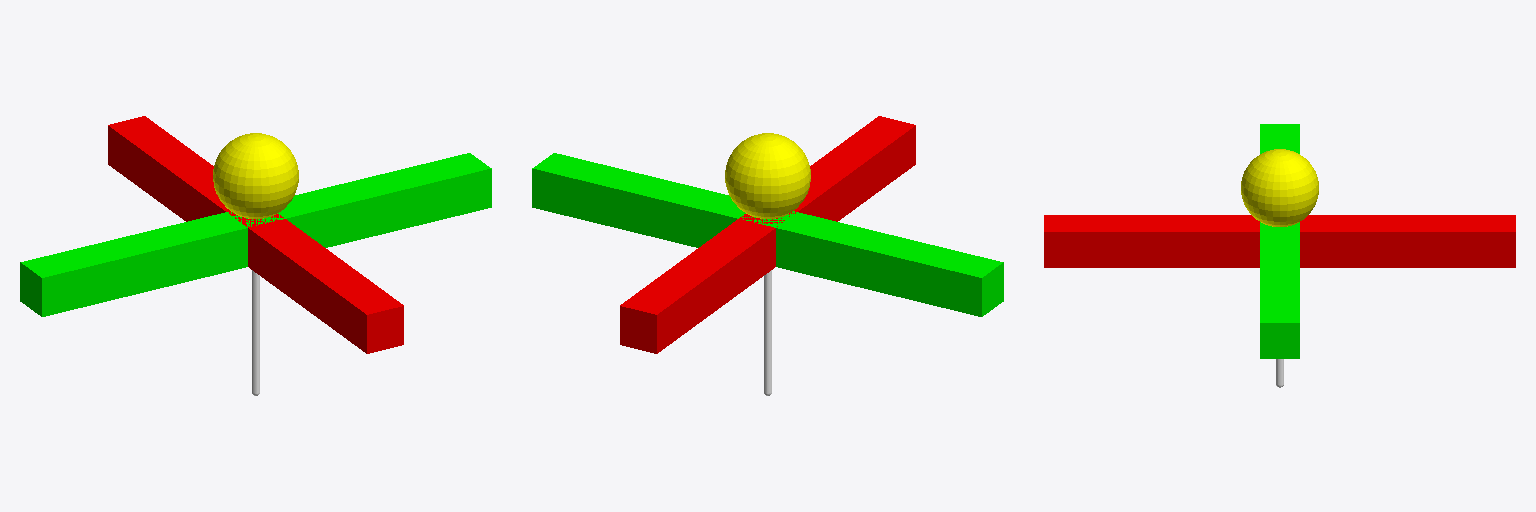
robot.urdf — task6_0:
<?xml version="1.0"?>
<robot name="task6_0">
    <link name="world"/>

    <link name="base_link">
        <origin xyz="0.0 0.0 0.0" rpy="0.0 0.0 0.0"/>
    </link>

    <link name="y_axis_link">
        <inertial>
            <origin xyz="0.0 0.0 0.0" rpy="0.0 0.0 0.0"/>
            <mass value="0.0"/>
            <inertia ixx="0.0" ixy="0.0" ixz="0.0" iyy="0.0" iyz="0.0" izz="0.0"/>
        </inertial>
        <visual name="">
            <origin xyz="0.0 0.0 0.0" rpy="0.0 0.0 0.0"/>
            <geometry>
                <box size="0.600 0.05 0.05"/>
            </geometry>
            <material name="">
                <color rgba="0.0 1.0 0.0 1.0"/>
                <texture filename=""/>
            </material>
        </visual>
        <collision>
            <origin xyz="0.0 0.0 0.0" rpy="0.0 0.0 0.0"/>
            <geometry>
                <box size="0.0 0.0 0.0"/>
            </geometry>
        </collision>
    </link>

    <link name="x_axis_link">
        <inertial>
            <origin xyz="0.0 0.0 0.0" rpy="0.0 0.0 0.0"/>
            <mass value="0.0"/>
            <inertia ixx="0.0" ixy="0.0" ixz="0.0" iyy="0.0" iyz="0.0" izz="0.0"/>
        </inertial>
        <visual name="">
            <origin xyz="0.0 0.0 0.0" rpy="0.0 0.0 0.0"/>
            <geometry>
                <box size="0.05 0.600 0.05"/>
            </geometry>
            <material name="red">
                <color rgba="1.0 0.0 0.0 1.0"/>
                <texture filename=""/>
            </material>
        </visual>
        <collision>
            <origin xyz="0.0 0.0 0.0" rpy="0.0 0.0 0.0"/>
            <geometry>
                <box size="0.05 0.05 0.300"/>
            </geometry>
        </collision>
    </link>

    <link name="spindle_base_link">
        <inertial>
            <origin xyz="0.0 0.0 0.0" rpy="0.0 0.0 0.0"/>
            <mass value="0.0"/>
            <inertia ixx="0.0" ixy="0.0" ixz="0.0" iyy="0.0" iyz="0.0" izz="0.0"/>
        </inertial>
        <visual name="">
            <origin xyz="0.0 0.0 0.0" rpy="0.0 0.0 0.0"/>
            <geometry>
                <sphere radius="0.025"/>
            </geometry>
            <material name="">
                <color rgba="1.0 1.0 1.0 1.0"/>
                <texture filename=""/>
            </material>
        </visual>
        <collision>
            <origin xyz="0.0 0.0 0.0" rpy="0.0 0.0 0.0"/>
            <geometry>
                <sphere radius="0.025"/>
            </geometry>
        </collision>
    </link>

    <link name="spindle_nozzle_link">
        <inertial>
            <origin xyz="0.0 0.0 0.0" rpy="0.0 0.0 0.0"/>
            <mass value="0.0"/>
            <inertia ixx="0.0" ixy="0.0" ixz="0.0" iyy="0.0" iyz="0.0" izz="0.0"/>
        </inertial>
        <visual name="">
            <origin xyz="0.0 0.0 0.100" rpy="0.0 0.0 0.0"/>
            <geometry>
                <cylinder radius="0.005" length="0.200"/>
            </geometry>
            <material name="">
                <color rgba="1.0 1.0 1.0 1.0"/>
                <texture filename=""/>
            </material>
        </visual>
        <collision>
            <origin xyz="0.0 0.0 0.0" rpy="0.0 0.0 0.0"/>
            <geometry>
                <cylinder radius="0.005" length="0.200"/>
            </geometry>
        </collision>
    </link>

    <link name="spindle_nozzle_end_link">
        <inertial>
            <origin xyz="0.0 0.0 0.0" rpy="0.0 0.0 0.0"/>
            <mass value="0.0"/>
            <inertia ixx="0.0" ixy="0.0" ixz="0.0" iyy="0.0" iyz="0.0" izz="0.0"/>
        </inertial>
        <visual name="">
            <origin xyz="0.0 0.0 0.0" rpy="0.0 0.0 0.0"/>
            <geometry>
                <sphere radius="0.005"/>
            </geometry>
            <material name="">
                <color rgba="1.0 1.0 1.0 1.0"/>
                <texture filename=""/>
            </material>
        </visual>
        <collision>
            <origin xyz="0.0 0.0 0.0" rpy="0.0 0.0 0.0"/>
            <geometry>
                <sphere radius="0.005"/>
            </geometry>
        </collision>
    </link>

    <link name="object_link">
        <inertial>
            <origin xyz="0.0 0.0 0.0" rpy="0.0 0.0 0.0"/>
            <mass value="0.0"/>
            <inertia ixx="0.0" ixy="0.0" ixz="0.0" iyy="0.0" iyz="0.0" izz="0.0"/>
        </inertial>
        <visual name="">
            <origin xyz="0.0 0.0 0.0" rpy="0.0 0.0 0.0"/>
            <geometry>
                <sphere radius="0.05"/>
            </geometry>
            <material name="">
                <color rgba="1.0 1.0 0.0 0.5"/>
                <texture filename=""/>
            </material>
        </visual>
        <collision>
            <origin xyz="0.0 0.0 0.0" rpy="0.0 0.0 0.0"/>
            <geometry>
                <sphere radius="0.05"/>
            </geometry>
        </collision>
    </link>

    <joint name="world_base_joint" type="fixed">
        <parent link="world"/>
        <child link="base_link"/>
        <origin xyz="0.0 0.0 0.0" rpy="0.0 0.0 0.0"/>
    </joint>

    <!-- Breaking some rules here, as even though this is only a prismatic joint , we are also giving it a yaw -->
    <joint name="x_axis_base_link_joint" type="prismatic">
        <parent link="base_link"/>
        <child link="x_axis_link"/>
        <axis xyz="1 0 0"/>
        <limit lower="-0.3" upper="0.3" velocity="0.5" effort="1000.0"/>
        <origin xyz="0 0 0" rpy="0 0 0"/>
    </joint>
    
    <joint name="y_axis_base_joint" type="prismatic">
        <origin xyz="0.0 0.0 0.0" rpy="0.0 0.0 0.0"/>
        <parent link="base_link"/>
        <child link="y_axis_link"/>
        <axis xyz="0.0 1.0 0.0"/>
        <limit lower="-0.300" upper="0.300" effort="0.0" velocity="0.0"/>
    </joint>

    <joint name="base_spindle_base_joint" type="prismatic">
        <origin xyz="0.0 0.0 0.0" rpy="0.0 0.0 0.0"/>
        <parent link="base_link"/>
        <child link="spindle_base_link"/>
        <axis xyz="0.0 0.0 1"/>
        <limit lower="0.0" upper="0.4" effort="0.0" velocity="0.0"/>
    </joint>

    <!-- <joint name="base_spindle_base_joint" type="floating">
        <origin xyz="0.0 0.0 4" rpy="0.0 0.0 0.0"/>
        <parent link="base_link"/>
        <child link="spindle_base_link"/>
        <axis xyz="0.0 0.0 1.0"/>
        <limit lower="0.0" upper="0.4" effort="0.0" velocity="0.0"/>
    </joint> -->
    
    <joint name="spindle_base_spindle_nozzle_pitch" type="revolute">
        <parent link="spindle_base_link"/>
        <child link="spindle_nozzle_link"/>
        <axis xyz="0 1 0"/>
        <limit lower="-0.7853981630" upper="0.7853981630" velocity="50.0" effort="1000.0"/>
        <origin xyz="0 0 0" rpy="0 3.1415 0"/>
    </joint>
    
    <joint name="base_object_joint" type="prismatic">
        <parent link="base_link"/>
        <child link="object_link"/>
        <axis xyz="1 1 0"/>
        <limit lower="-0.3" upper="0.3" velocity="0.5" effort="1000.0"/>
        <origin xyz="0 0 0.075" rpy="0 0 0"/>
    </joint>

    <joint name="spindle_nozzle_end_spindle_nozzle_joint" type="fixed">
        <parent link="spindle_nozzle_link"/>
        <child link="spindle_nozzle_end_link"/>
        <origin xyz="0.0 0.0 0.20" rpy="0.0 0.0 0.0"/>
    </joint>
    
    

</robot>

--- Render facts (derived) ---
Views: 3 orthographic renders of the robot side by side, from view 1: azimuth 30°, elevation 25°; view 2: azimuth 150°, elevation 25°; view 3: azimuth 270°, elevation 25°.
Model task6_0 with 8 links and 7 joints (1 revolute, 4 prismatic, 2 fixed), rooted at world, posed all joints at 0.
Visible links, largest first — view 1: y_axis_link, x_axis_link, object_link, spindle_nozzle_link; view 2: y_axis_link, x_axis_link, object_link, spindle_nozzle_link; view 3: x_axis_link, y_axis_link, object_link.
Link boxes in pixels (x1,y1,x2,y2): y_axis_link: (20, 153, 491, 316); x_axis_link: (108, 116, 403, 353); object_link: (213, 133, 298, 218); spindle_nozzle_link: (252, 270, 259, 393); y_axis_link: (532, 153, 1003, 316); x_axis_link: (620, 116, 915, 353); object_link: (725, 133, 810, 218); spindle_nozzle_link: (764, 270, 771, 393); x_axis_link: (1044, 215, 1515, 267); y_axis_link: (1260, 124, 1299, 358); object_link: (1241, 149, 1318, 226).
Size in the robot's own frame: 0.6 by 0.6 by 0.33 metres.
Geometry: primitives only (box / cylinder / sphere), no mesh files.